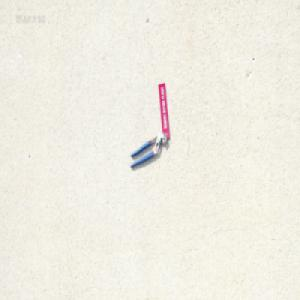Label: (157, 83, 170, 139)
Pliers: (129, 131, 167, 169)
